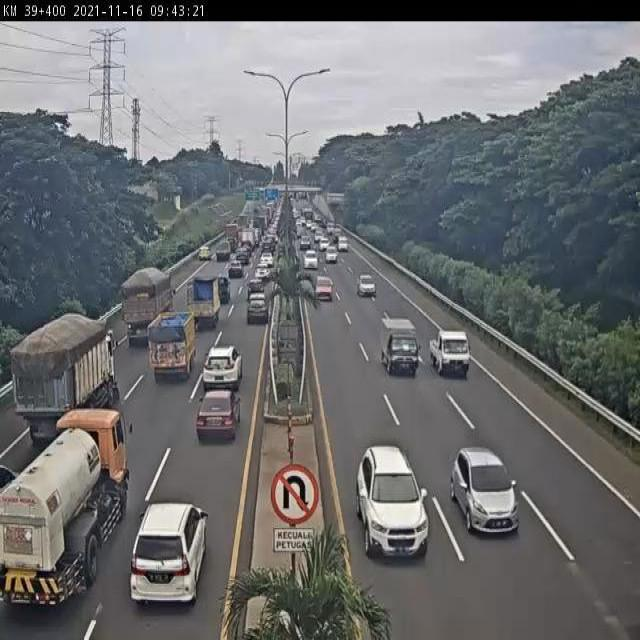car: (133, 492, 203, 621), (354, 446, 431, 558), (452, 446, 521, 542), (190, 376, 240, 447), (428, 323, 473, 381), (203, 337, 244, 395), (383, 320, 422, 379), (312, 271, 336, 304), (247, 296, 267, 333), (355, 271, 378, 300), (210, 278, 226, 314), (189, 244, 211, 267), (247, 278, 262, 306), (229, 252, 244, 279), (253, 269, 265, 292), (260, 253, 271, 271), (305, 242, 315, 258)
small truck: (147, 313, 192, 392), (183, 272, 220, 333), (213, 243, 226, 264)
truck-m-: (0, 400, 125, 615), (11, 313, 117, 463), (125, 268, 177, 349)
